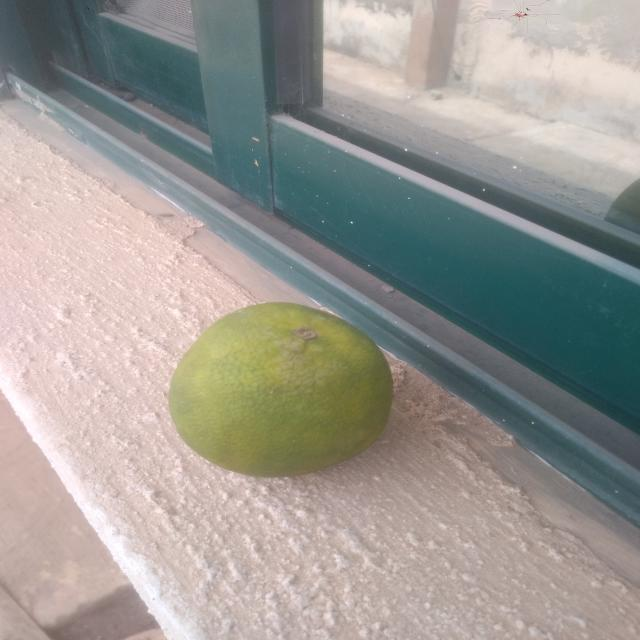Unripe: (141, 286, 433, 517)
